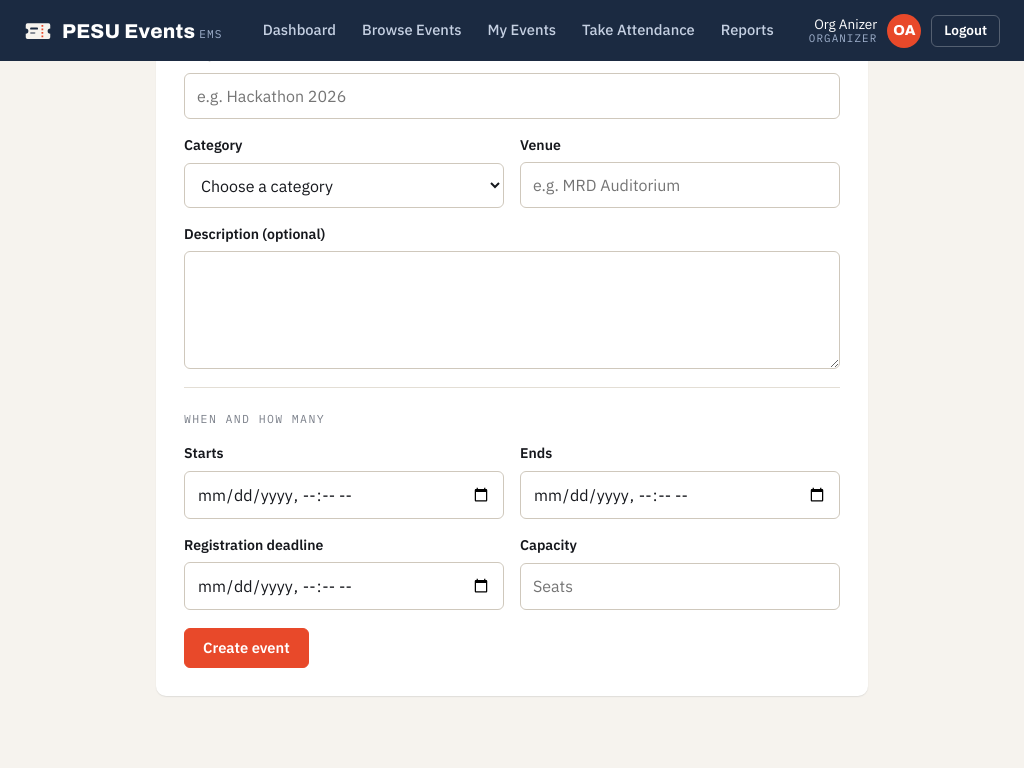
it: Create Event › TC-EVENT-02, TC-EVENT-08: server validation messages appear next to each field
(page scrolled)
Click the button "Create event". click: (246, 648)
box: [184,628,309,668]
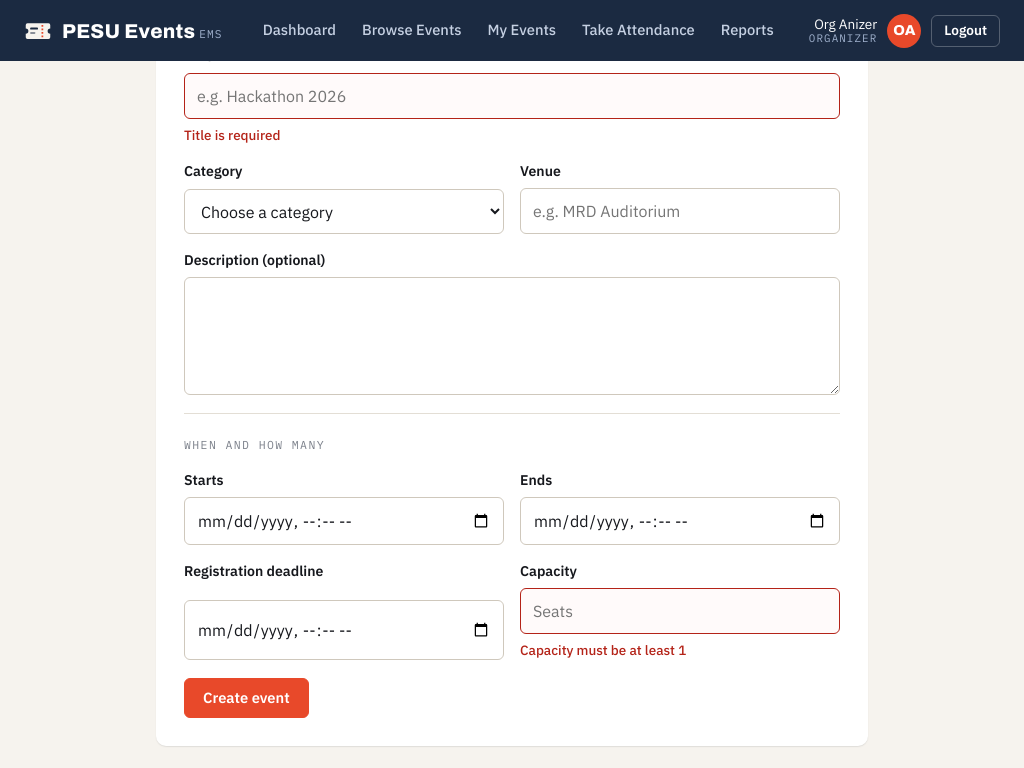
Expected: the text "Title is required" is shown, [184,126,280,144]
Expected: the text "Capacity must be at least 1" is shown, [520,641,686,659]
